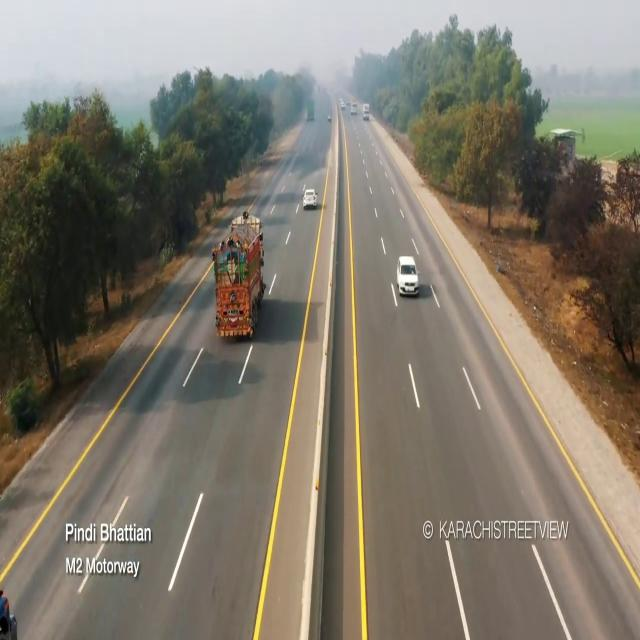car: (396, 256, 419, 294), (303, 188, 319, 210)
truck: (210, 204, 276, 352)
